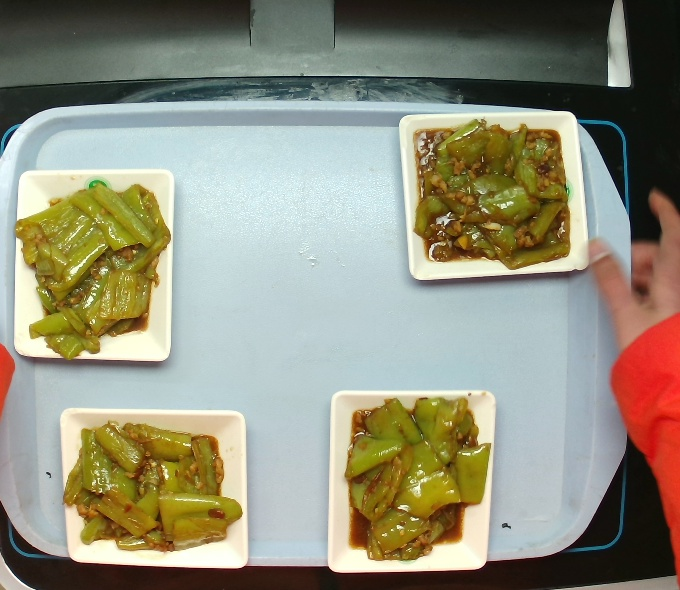wcq-RouMoQingJiao: (17, 171, 165, 365), (339, 382, 487, 571), (411, 110, 570, 278), (62, 417, 240, 562)
